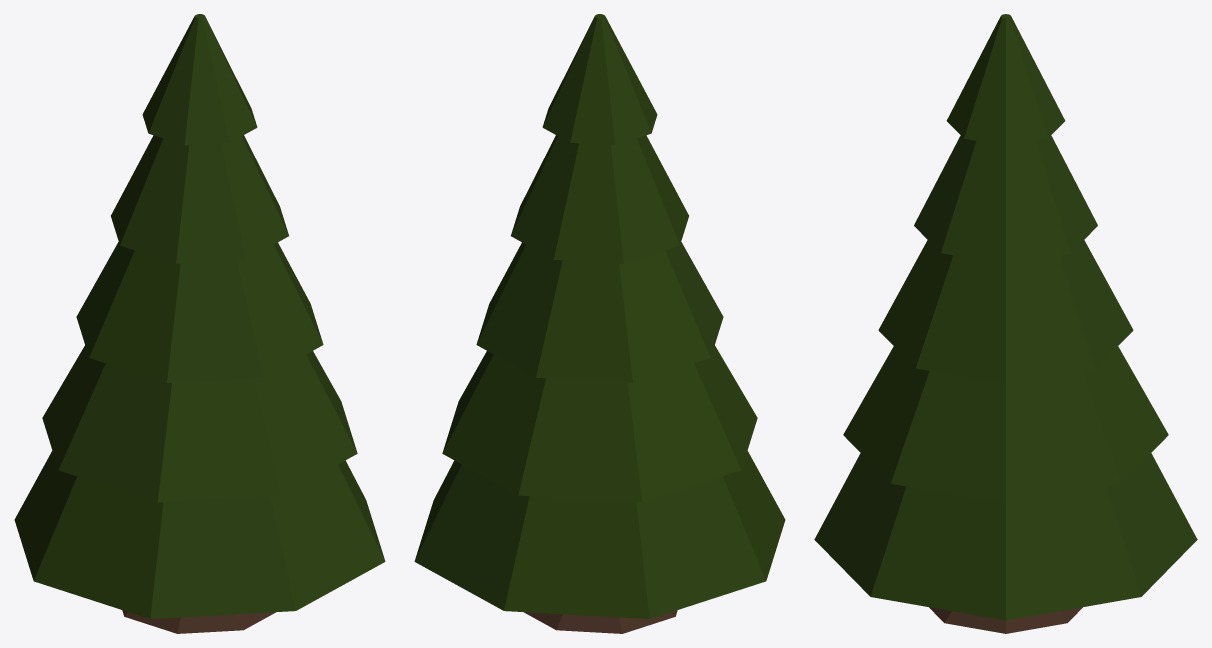
Rendered from PineTree002.fbx.
The picture shows the model from 3 angles, left to right: view 1: azimuth 30°, elevation 25°; view 2: azimuth 150°, elevation 25°; view 3: azimuth 270°, elevation 25°; orthographic projection.
Visible parts, largest first — view 1: Cylinder.005; view 2: Cylinder.005; view 3: Cylinder.005.
Boxes of the visible parts, <box> form: Cylinder.005: <box>14,14,385,633</box>; Cylinder.005: <box>414,14,785,633</box>; Cylinder.005: <box>814,14,1197,633</box>.
Bounding box in the file's own units: 942 × 1575 × 942.
